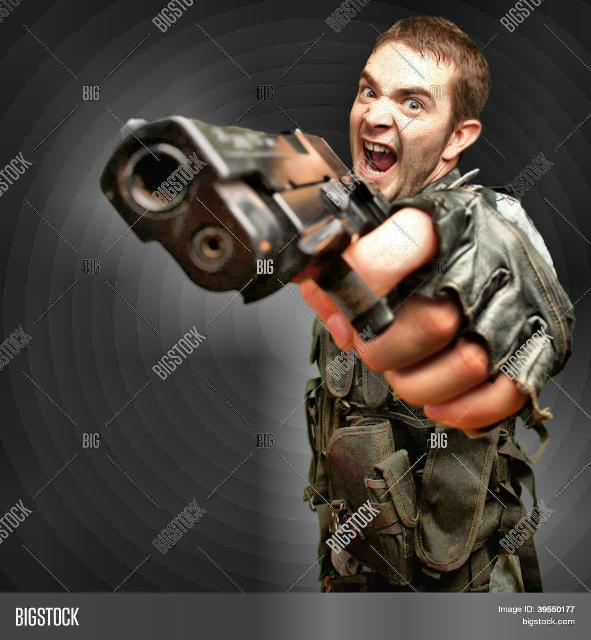pistol: (82, 111, 411, 339)
